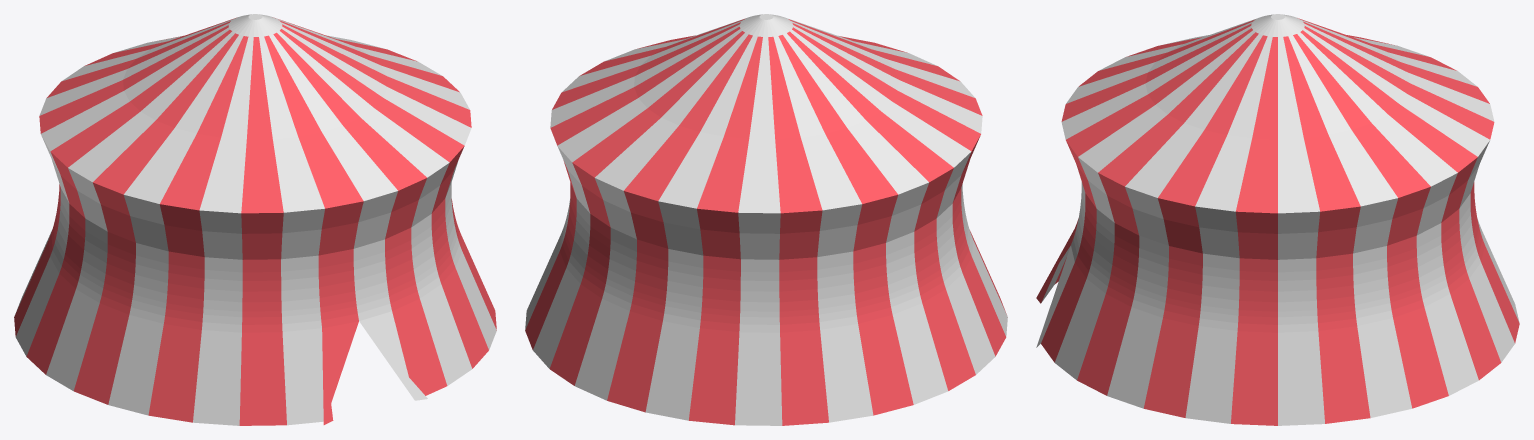
File: circusTent.fbx
3 renders of one model, left to right at view 1: azimuth 30°, elevation 25°; view 2: azimuth 150°, elevation 25°; view 3: azimuth 270°, elevation 25°, orthographic.
Parts seen in each view (by area): view 1: Cylinder; view 2: Cylinder; view 3: Cylinder.
Boxes of the visible parts, x1,y1,x2,y2 form: Cylinder: (14, 14, 496, 425); Cylinder: (525, 14, 1007, 425); Cylinder: (1036, 14, 1519, 425).
Size of the model in its own units: 917 by 642 by 917.
